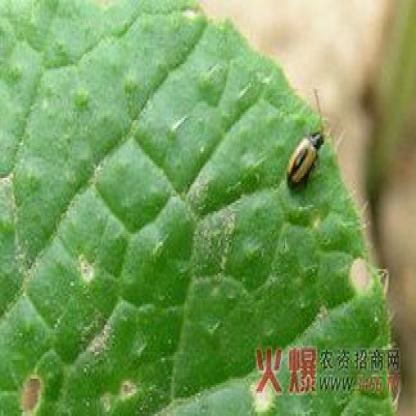beetle: (288, 94, 332, 194)
